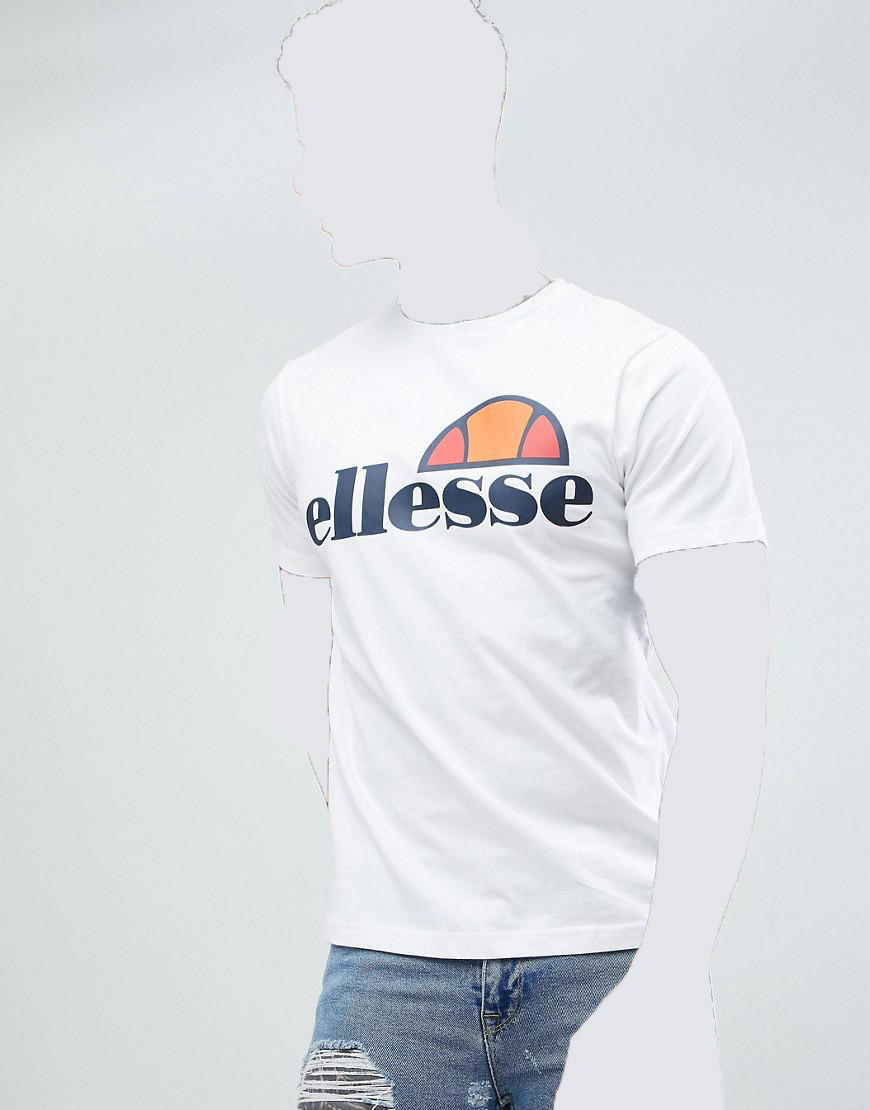teeshirt: (229, 281, 773, 966)
